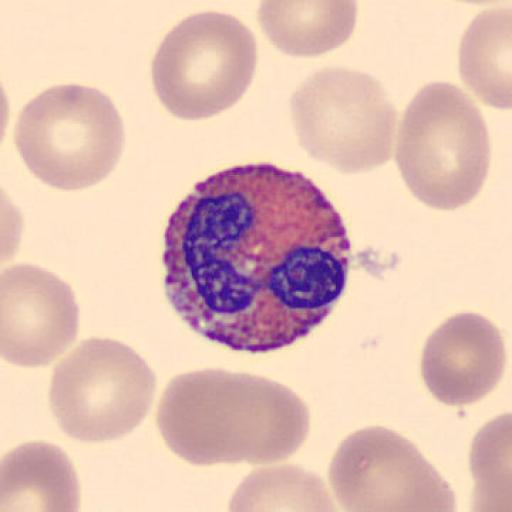RBC: (156, 366, 310, 472), (393, 78, 493, 213), (11, 80, 128, 194), (287, 63, 399, 177), (149, 8, 258, 122), (46, 335, 157, 445), (326, 423, 458, 512), (155, 366, 263, 468), (204, 368, 312, 466), (418, 308, 506, 407), (1, 261, 81, 369), (456, 3, 512, 113), (256, 1, 360, 60), (0, 438, 81, 512), (224, 462, 342, 512), (468, 409, 512, 512), (1, 182, 25, 268), (0, 69, 11, 156), (0, 79, 9, 168), (439, 0, 512, 6)
WBC: (161, 156, 351, 357)
